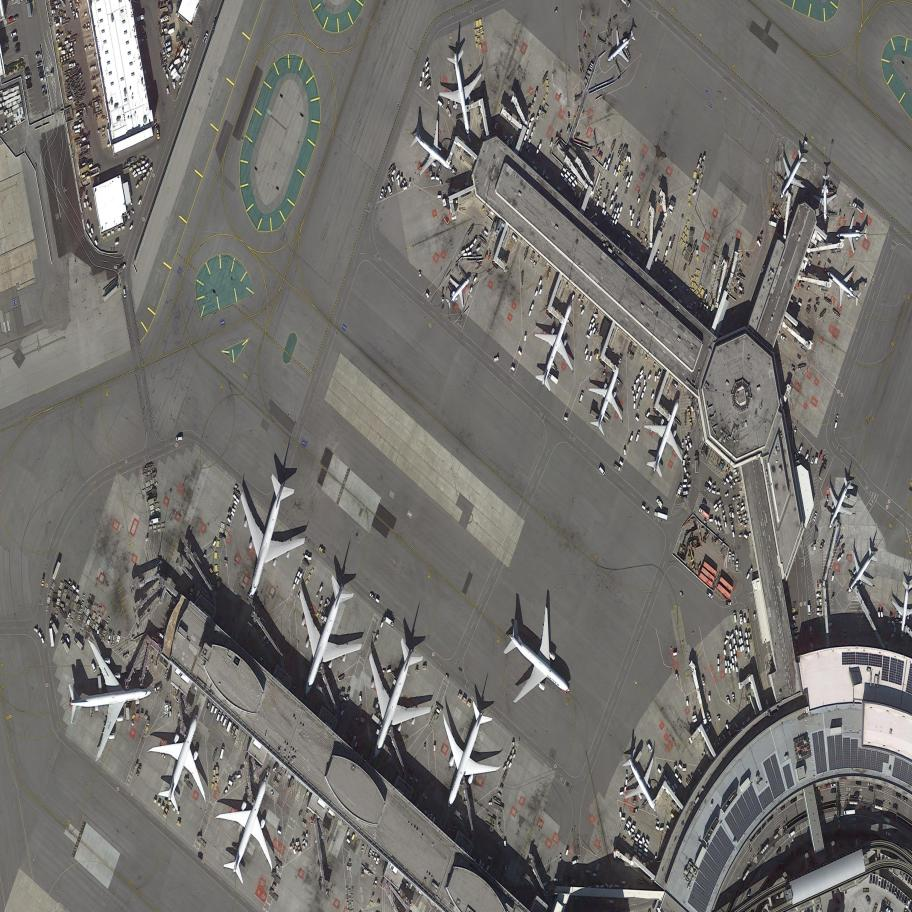large-vehicle: (851, 201, 865, 215), (697, 507, 711, 520), (653, 511, 669, 521), (132, 14, 145, 23), (675, 484, 683, 498), (612, 462, 623, 472), (655, 497, 664, 509), (787, 829, 797, 839), (881, 816, 892, 825), (634, 431, 641, 444), (834, 414, 840, 429), (436, 99, 445, 109), (694, 456, 699, 474), (597, 466, 606, 476), (767, 220, 778, 228), (219, 746, 225, 760), (844, 809, 855, 816), (578, 392, 584, 404), (67, 62, 77, 69), (808, 605, 811, 615)
plane: (331, 614, 459, 789), (263, 551, 387, 726), (209, 454, 324, 621), (406, 680, 526, 833), (190, 751, 305, 902), (479, 586, 596, 733), (128, 690, 234, 827), (60, 628, 155, 764), (511, 282, 601, 406), (627, 381, 705, 490), (600, 735, 681, 833), (572, 350, 641, 446), (396, 103, 469, 193), (431, 44, 494, 143), (825, 531, 896, 608), (759, 136, 823, 213), (808, 252, 879, 321), (810, 466, 869, 541), (431, 262, 489, 320), (597, 19, 645, 76), (812, 170, 840, 226), (837, 214, 868, 254)
small-vehicle: (117, 263, 127, 274), (766, 813, 776, 823), (703, 482, 712, 493), (705, 590, 714, 600), (166, 63, 175, 73), (317, 546, 327, 555), (754, 826, 763, 836), (399, 178, 407, 189), (158, 751, 167, 760), (368, 592, 377, 601), (646, 743, 654, 753), (261, 633, 269, 643), (789, 796, 799, 804), (203, 32, 209, 45), (864, 895, 871, 906), (219, 712, 226, 723), (791, 627, 800, 635), (163, 40, 172, 48), (570, 858, 579, 866), (195, 589, 201, 601), (375, 854, 381, 866), (64, 634, 71, 644), (812, 511, 818, 522), (725, 696, 731, 707), (189, 585, 195, 596), (91, 663, 97, 674), (379, 188, 385, 199), (216, 711, 222, 722), (222, 716, 228, 727), (704, 725, 712, 733), (779, 804, 787, 812), (706, 713, 713, 722), (164, 46, 173, 53), (41, 575, 46, 587), (898, 868, 904, 878), (905, 899, 911, 909), (210, 702, 215, 714), (387, 186, 393, 196), (746, 888, 752, 898), (367, 848, 373, 858), (780, 335, 788, 342), (25, 83, 33, 90), (12, 15, 20, 22), (901, 797, 909, 804), (731, 693, 736, 704), (689, 419, 694, 430), (164, 669, 169, 680), (213, 705, 219, 714), (761, 821, 767, 830), (727, 551, 731, 564), (731, 553, 735, 566), (907, 874, 912, 884), (877, 878, 882, 888), (206, 700, 211, 710), (15, 47, 22, 54), (892, 804, 899, 811), (792, 635, 800, 641), (24, 74, 32, 80), (41, 90, 49, 96), (36, 61, 44, 67), (10, 31, 18, 37), (7, 17, 15, 23), (733, 612, 737, 624), (447, 188, 455, 194), (885, 831, 893, 837), (894, 792, 902, 798), (761, 265, 766, 274), (905, 872, 910, 881), (903, 896, 908, 905), (896, 890, 901, 899), (893, 887, 898, 896), (687, 408, 691, 419), (735, 561, 739, 572), (682, 490, 689, 496), (39, 76, 46, 82), (14, 42, 21, 48), (12, 36, 19, 42), (462, 182, 469, 188), (876, 785, 883, 791), (176, 436, 183, 442), (824, 783, 831, 789), (72, 10, 76, 20), (34, 53, 42, 58), (266, 637, 271, 645), (69, 2, 73, 11), (872, 875, 876, 884), (899, 892, 903, 901), (886, 882, 890, 891), (883, 881, 887, 890), (880, 879, 884, 888), (725, 601, 732, 606), (55, 4, 62, 9), (51, 9, 58, 14), (161, 28, 168, 33), (867, 782, 874, 787), (607, 899, 614, 904), (830, 788, 837, 793), (902, 872, 906, 880), (901, 895, 905, 903), (891, 886, 895, 894), (123, 288, 126, 298), (702, 676, 705, 686), (41, 86, 47, 91), (856, 781, 862, 786), (809, 626, 812, 635), (889, 883, 892, 892), (875, 876, 878, 885), (831, 783, 836, 788), (869, 875, 872, 883), (869, 788, 874, 792), (811, 643, 813, 652), (854, 794, 860, 797)
